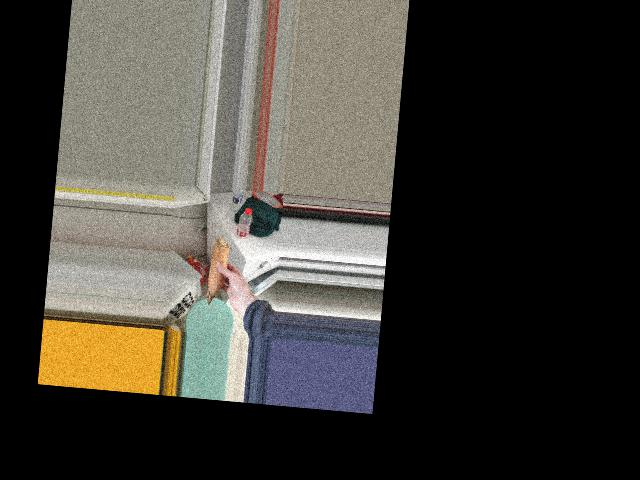sweet_potato: (205, 236, 232, 305)
